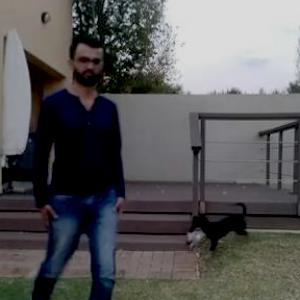follow: (40, 33, 144, 299)
